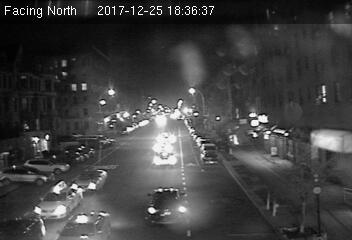car: (145, 187, 191, 227), (34, 182, 83, 218), (73, 169, 110, 193), (152, 150, 178, 167), (200, 150, 220, 163), (156, 132, 176, 144)
